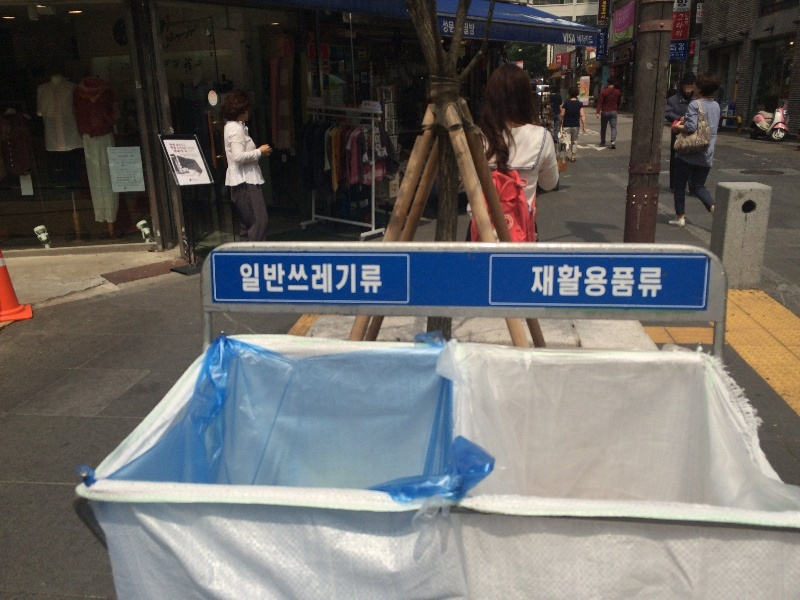text: (545, 264, 560, 300), (561, 264, 576, 300), (577, 264, 592, 300), (593, 264, 608, 300), (609, 264, 624, 300), (625, 264, 640, 300), (641, 264, 656, 300), (241, 263, 256, 296), (257, 263, 272, 296), (273, 263, 288, 296), (289, 263, 304, 296), (305, 263, 320, 296), (321, 263, 336, 296), (337, 263, 352, 296), (353, 263, 368, 296), (531, 264, 544, 300), (369, 263, 383, 296), (657, 264, 664, 300), (600, 33, 608, 55), (465, 22, 476, 37), (562, 33, 576, 44), (578, 34, 592, 45), (601, 1, 608, 20), (442, 20, 448, 34), (449, 20, 455, 34), (238, 263, 240, 296), (463, 22, 464, 37), (593, 34, 594, 45)
